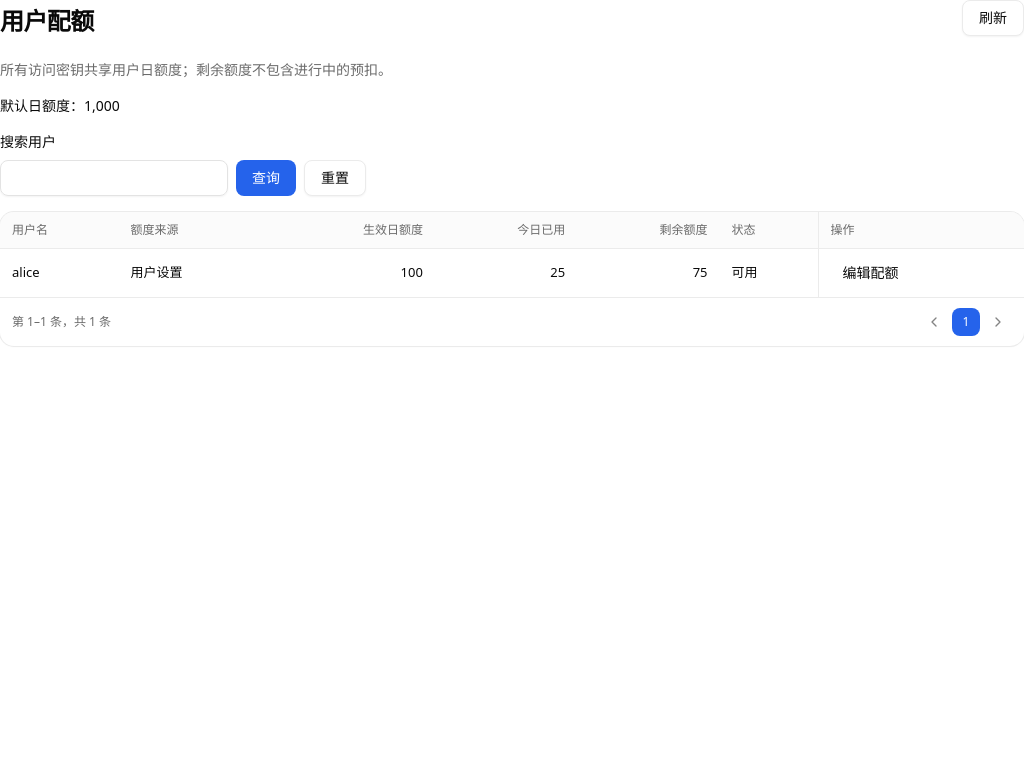
Test: validates integer quota and preserves edits after failure before retry
Step 1. Click the button "编辑配额" → point(870, 272), box top-left (830, 256), bottom-right (910, 288)
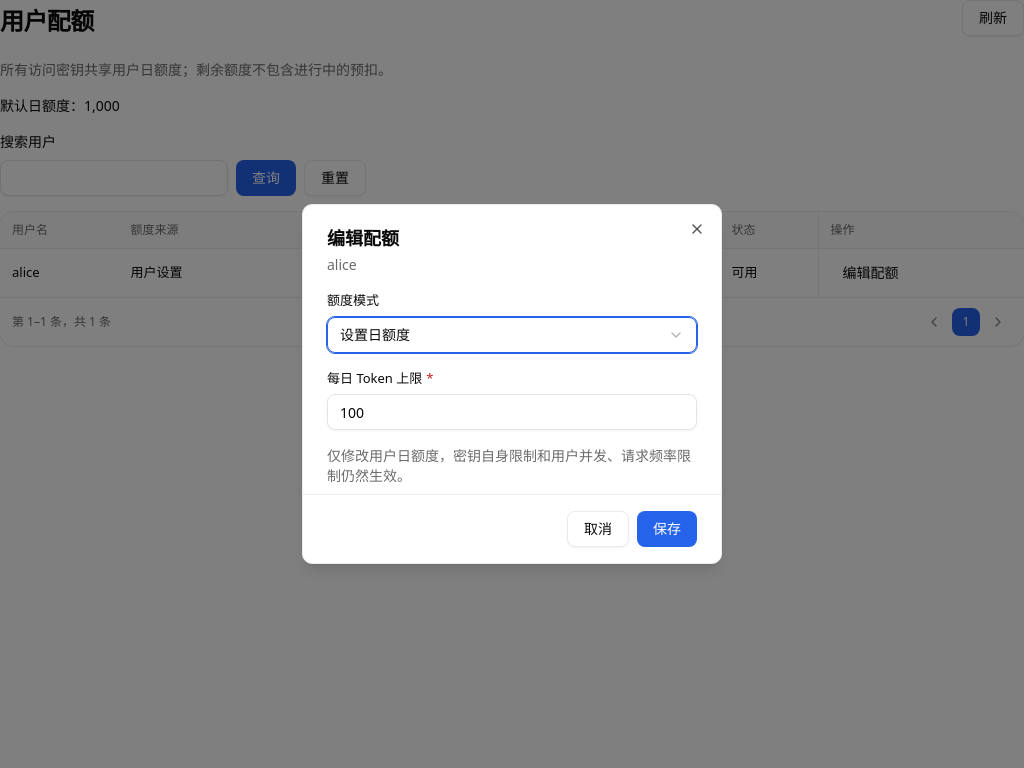
Step 2. Replace the text in the number field labelled "每日 Token 上限 *" with "1.5" → point(512, 412), box top-left (327, 394), bottom-right (697, 430)
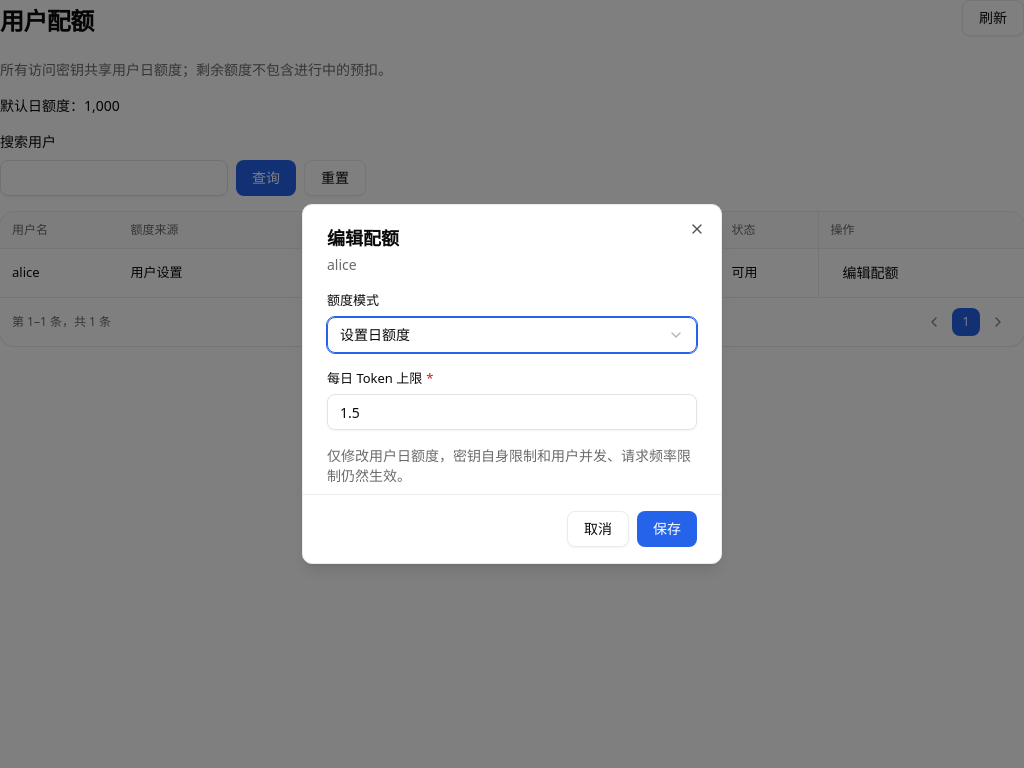
Step 3. Click the button "保存" → point(667, 529), box top-left (637, 511), bottom-right (697, 547)
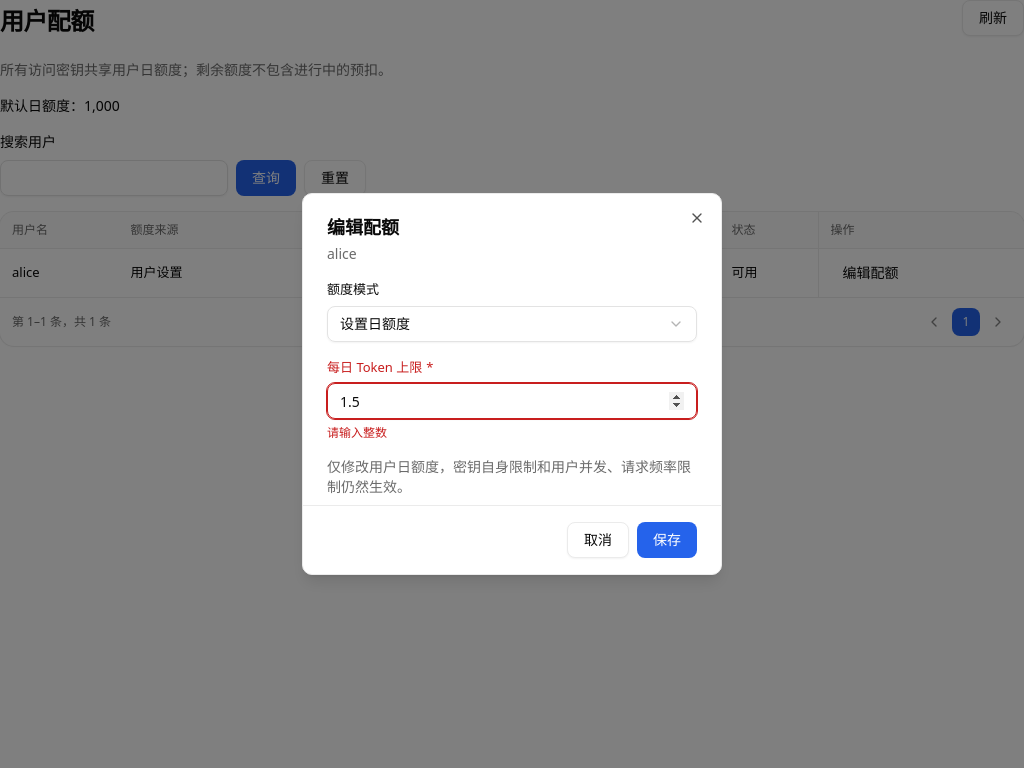
expect the text "请输入整数" is shown: met, box top-left (327, 424), bottom-right (387, 441)
Step 4. Replace the text in the number field labelled "每日 Token 上限 *" with "200" → point(512, 401), box top-left (327, 383), bottom-right (697, 419)
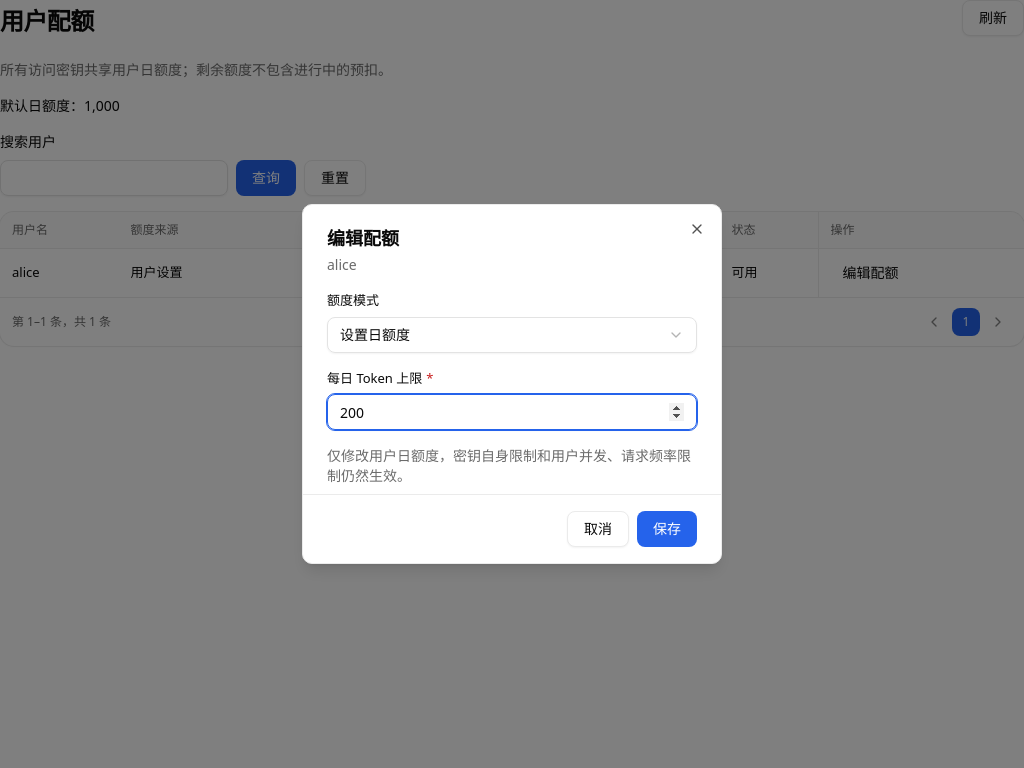
Step 5. Click the button "保存" → point(667, 529), box top-left (637, 511), bottom-right (697, 547)
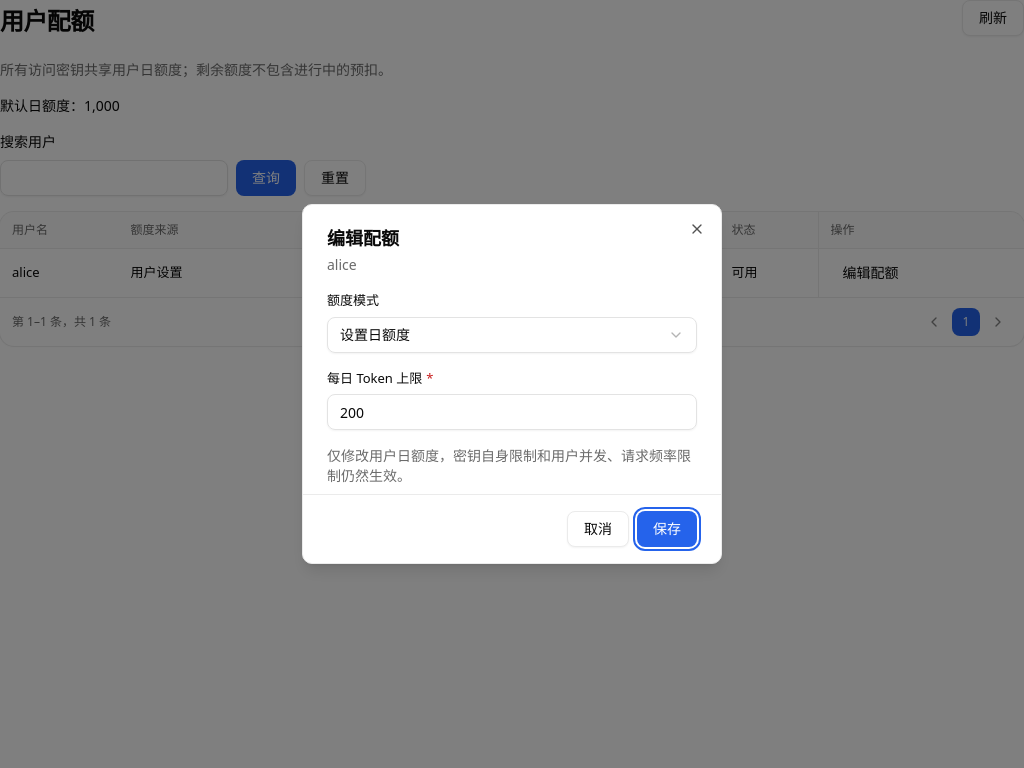
Step 6. Click the button "保存" → point(667, 529), box top-left (637, 511), bottom-right (697, 547)
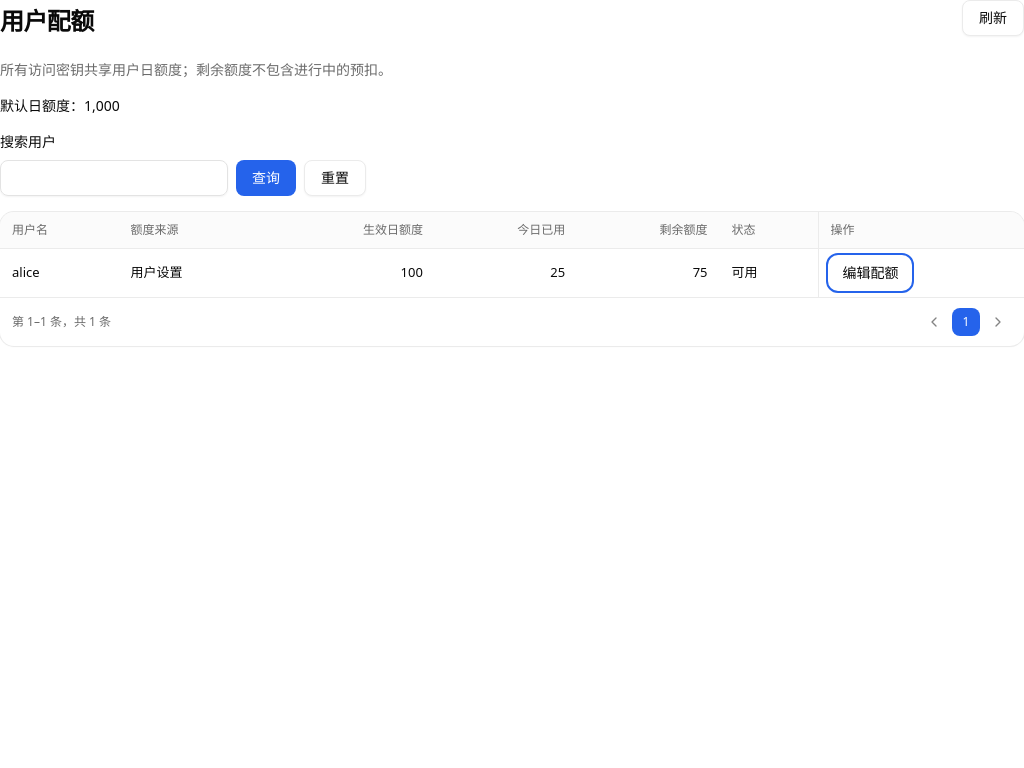
expect the dialog is gone: met
